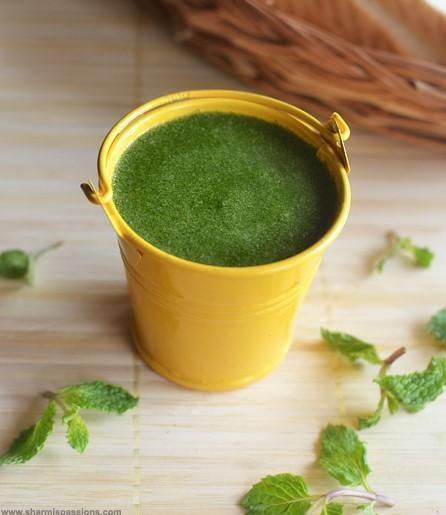GreenChutney: (115, 111, 337, 267)
